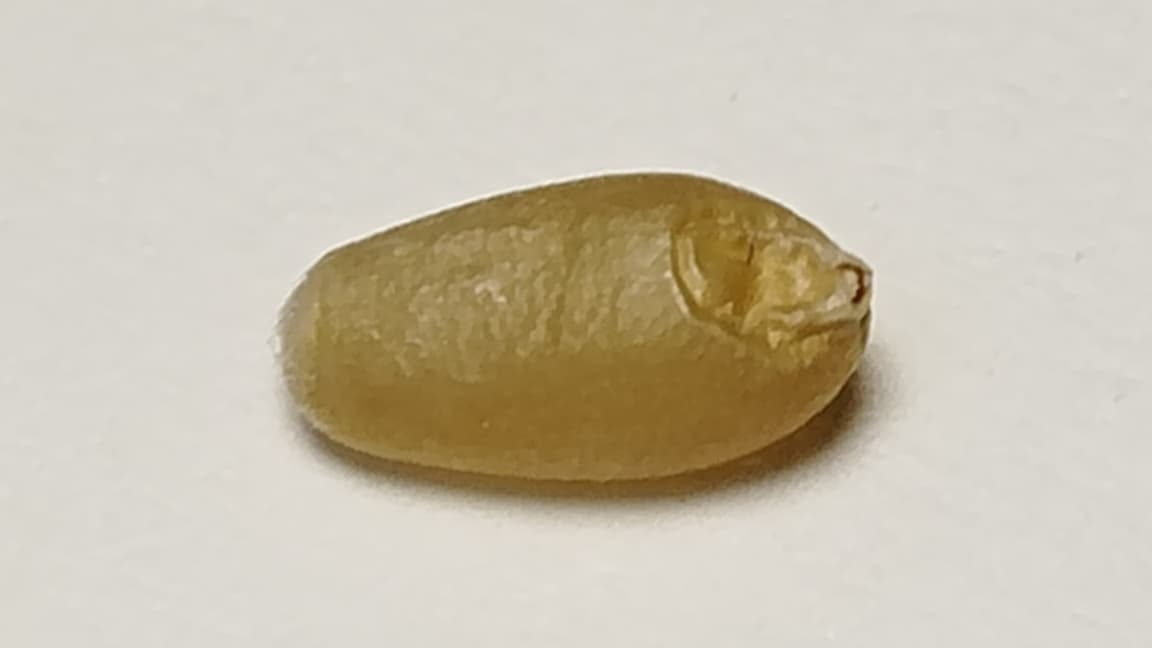healthy: (283, 175, 869, 478)
